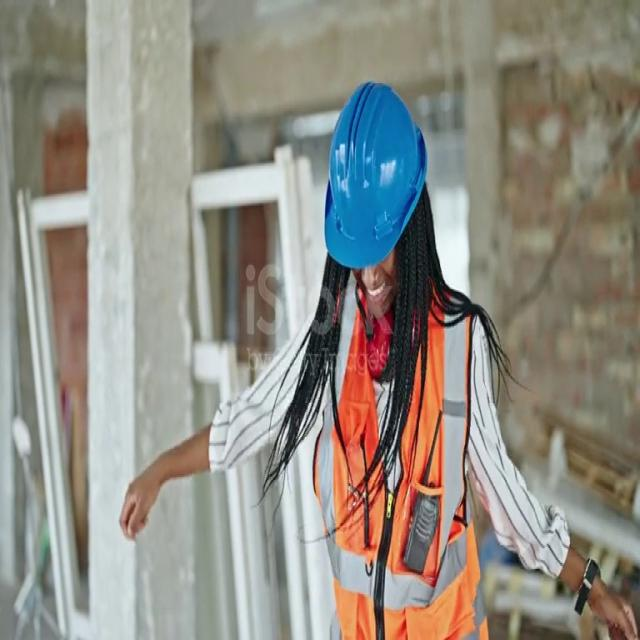capacete: (301, 79, 445, 275)
